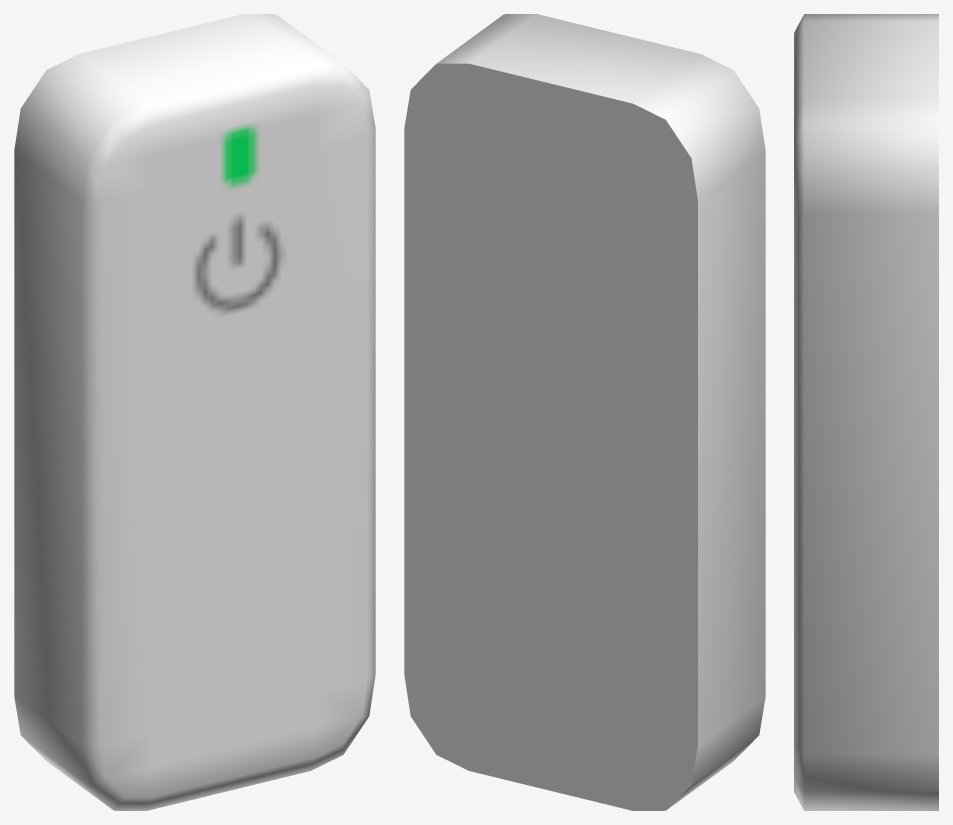
3 views of the same model, side by side, from view 1: azimuth 30°, elevation 25°; view 2: azimuth 150°, elevation 25°; view 3: azimuth 270°, elevation 25° (orthographic).
Parts seen in each view (by area): view 1: WL; view 2: WL; view 3: WL.
Boxes of the visible parts, x1,y1,x2,y2 form: WL: (14, 14, 375, 810); WL: (404, 14, 765, 810); WL: (794, 14, 938, 810).
Size of the model in its own units: 0.0627 by 0.1443 by 0.027.
1 material, 1 textured.
